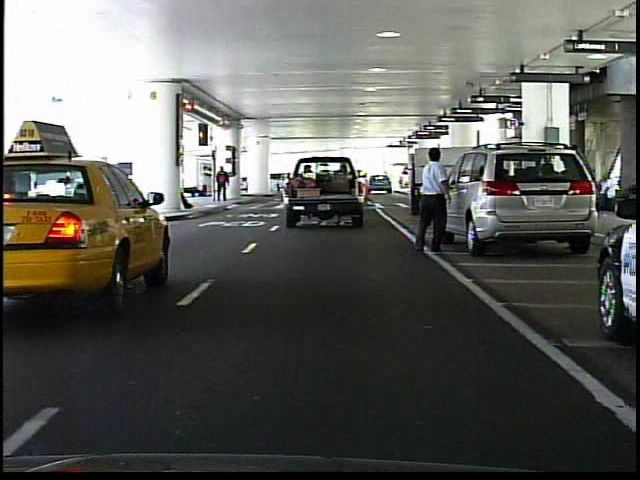person: (407, 144, 457, 259), (213, 163, 233, 204)
